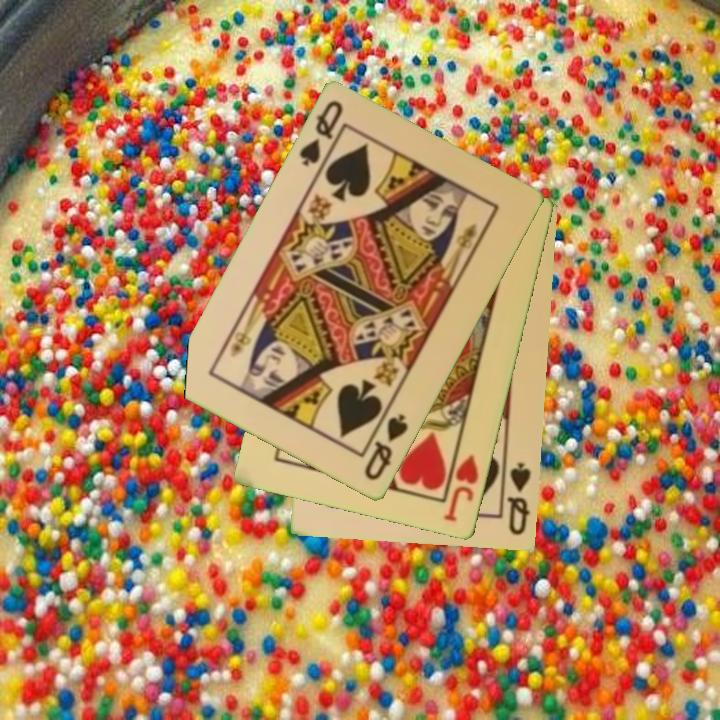Jh: (440, 442, 482, 525)
Qs: (295, 97, 348, 177), (361, 411, 412, 484), (504, 459, 534, 538)
